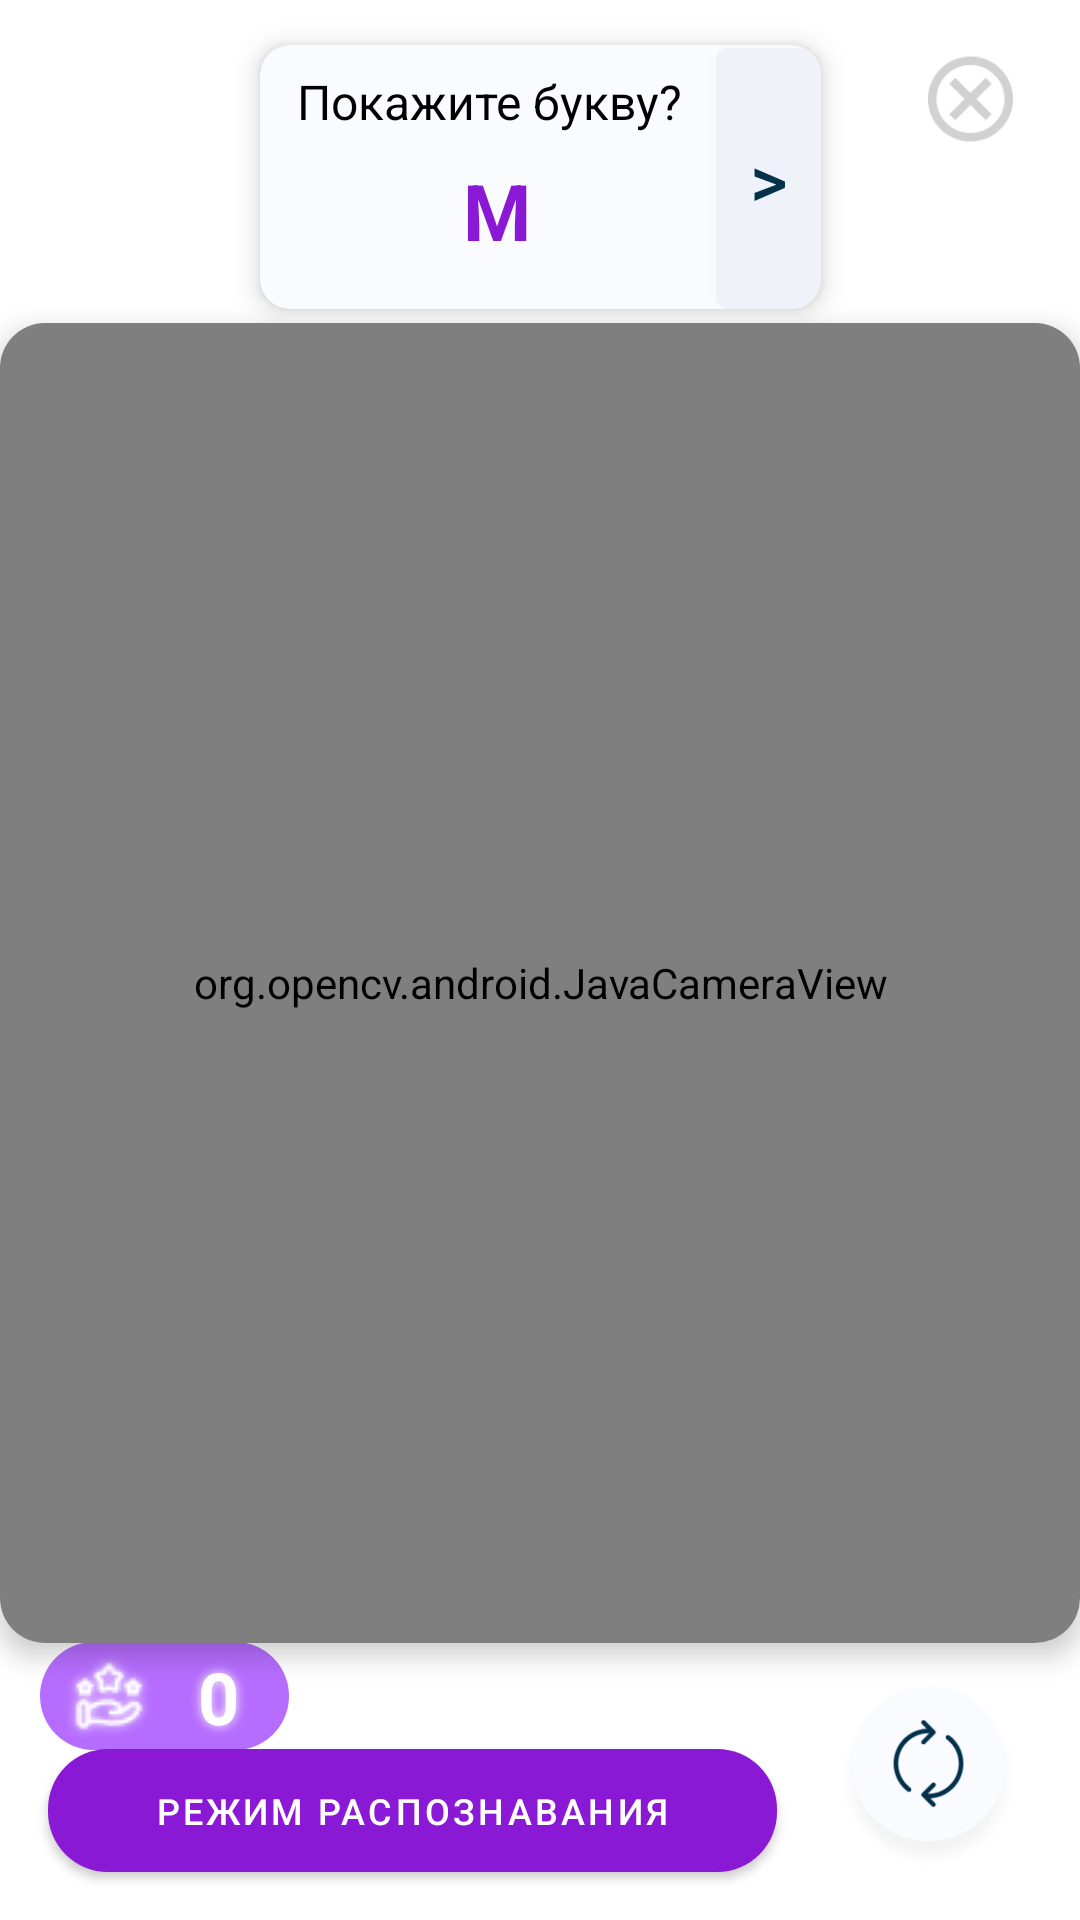

Screen size 1080w x 1920h. Icon name, then its center in pixels as [x,y]:
cancel: [970,99]
switch camera: [928,1763]
